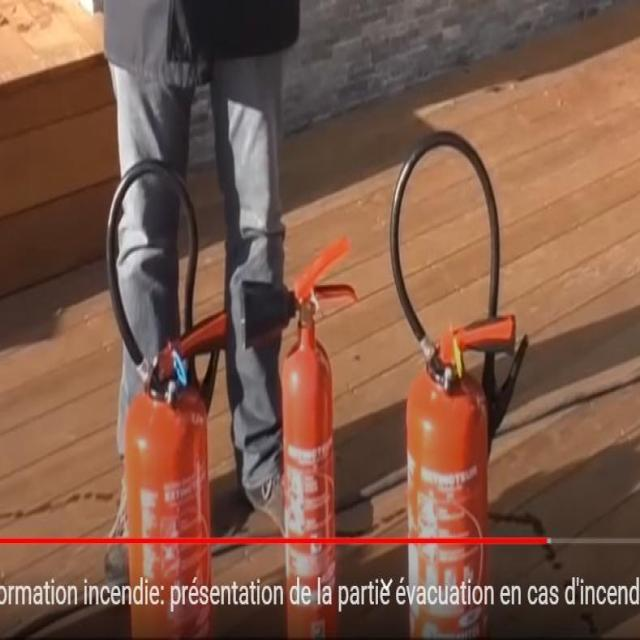fire_extinguisher: (385, 124, 531, 639), (100, 150, 232, 638), (233, 235, 361, 639)
